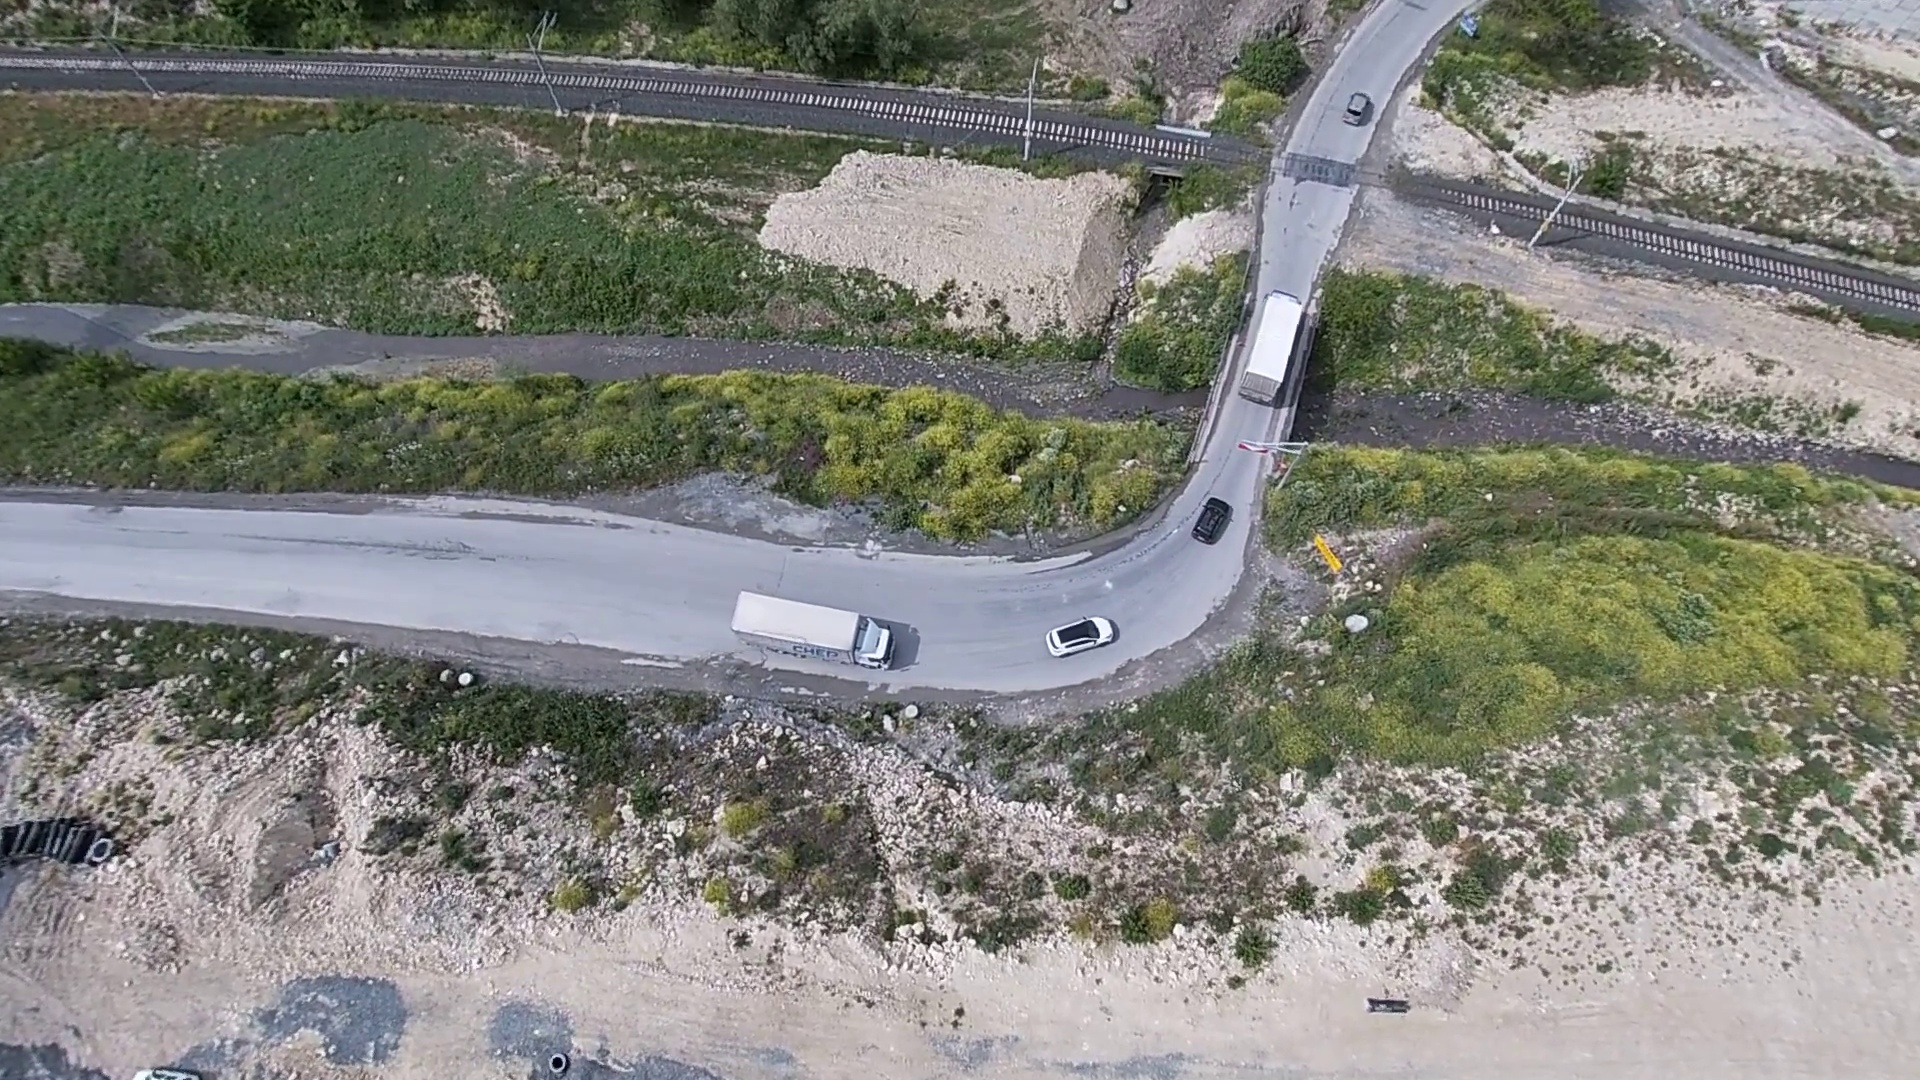arac: (717, 582, 902, 671), (1233, 285, 1317, 414), (1036, 615, 1124, 654), (1189, 496, 1233, 551), (1342, 88, 1375, 133)
